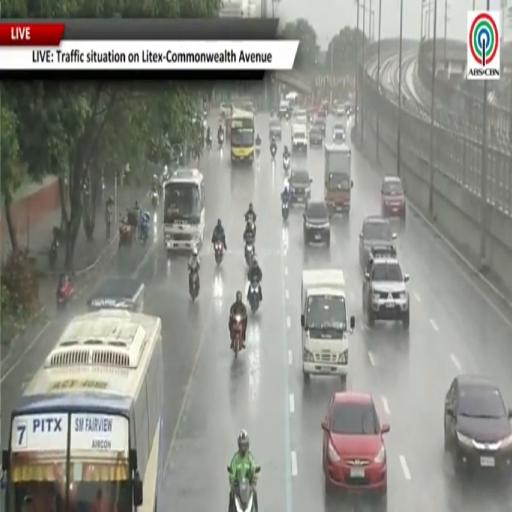bus: (2, 310, 166, 511), (164, 169, 205, 253), (231, 109, 255, 163)
car: (322, 392, 389, 508), (444, 375, 511, 473), (363, 251, 410, 329), (359, 216, 396, 270), (303, 200, 330, 248), (381, 175, 405, 219), (288, 169, 312, 203), (291, 123, 307, 153), (309, 125, 323, 147), (269, 118, 281, 140), (313, 116, 326, 136), (333, 123, 345, 143), (278, 101, 290, 119), (294, 109, 307, 124), (221, 103, 231, 117), (336, 104, 346, 118)
motorcycle: (234, 478, 254, 511), (56, 280, 75, 310), (231, 315, 243, 358), (248, 281, 260, 313), (119, 223, 134, 248), (48, 239, 59, 270), (189, 270, 199, 301), (245, 240, 254, 266), (215, 240, 223, 265), (140, 222, 149, 244), (152, 190, 159, 210), (282, 201, 289, 220), (283, 155, 290, 172), (218, 132, 224, 149), (206, 137, 212, 150), (271, 146, 276, 161), (255, 144, 260, 156)
truck: (301, 269, 354, 380), (324, 143, 353, 214), (87, 278, 145, 312)
